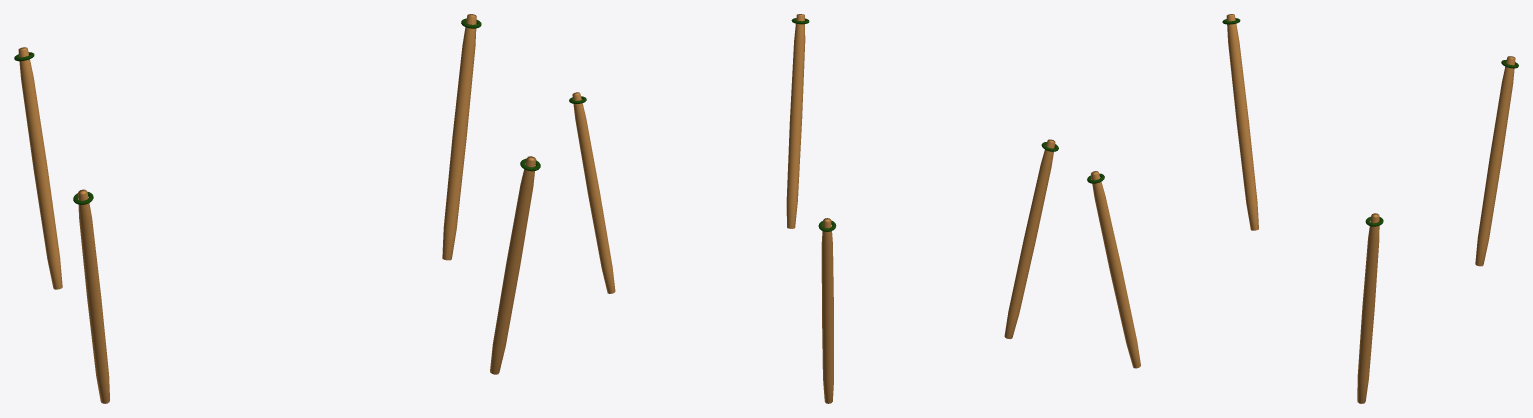
Rendered from Enviro_MarketStall_Metal_Creole_Untextured.fbx.
3 views of the same model, side by side, from view 1: azimuth 30°, elevation 25°; view 2: azimuth 150°, elevation 25°; view 3: azimuth 270°, elevation 25° (orthographic). The views are drawn at different scales.
Visible parts, largest first — view 1: pCylinder18, pCylinder15, pCylinder17, pCylinder16; view 2: pCylinder17, pCylinder16, pCylinder18, pCylinder15; view 3: pCylinder16, pCylinder15, pCylinder17, pCylinder18.
Part boxes in pixels (<box>): pCylinder18: <box>442,14,476,260</box>; pCylinder15: <box>18,47,62,289</box>; pCylinder17: <box>490,156,536,374</box>; pCylinder16: <box>78,189,109,403</box>; pCylinder17: <box>786,14,805,228</box>; pCylinder16: <box>1004,139,1055,338</box>; pCylinder18: <box>572,92,615,293</box>; pCylinder15: <box>821,218,833,403</box>; pCylinder16: <box>1226,14,1258,230</box>; pCylinder15: <box>1475,56,1515,266</box>; pCylinder17: <box>1090,171,1140,368</box>; pCylinder18: <box>1357,213,1379,403</box>.
Size of the model in its own units: 6.01 by 2.72 by 5.29.
